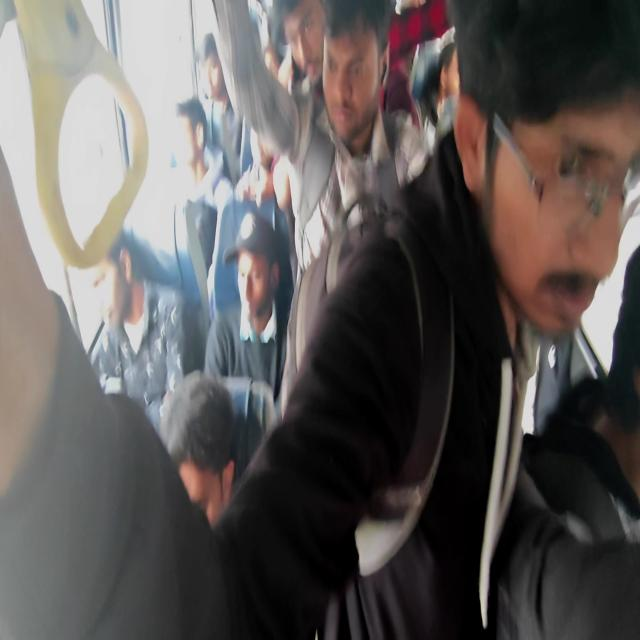person: (491, 52, 640, 343), (158, 390, 230, 522), (602, 238, 636, 506), (335, 14, 392, 141), (226, 232, 288, 343), (84, 225, 138, 327), (286, 6, 336, 92), (200, 30, 245, 123), (177, 106, 220, 198), (264, 38, 293, 118), (440, 31, 465, 114), (249, 120, 281, 182)
